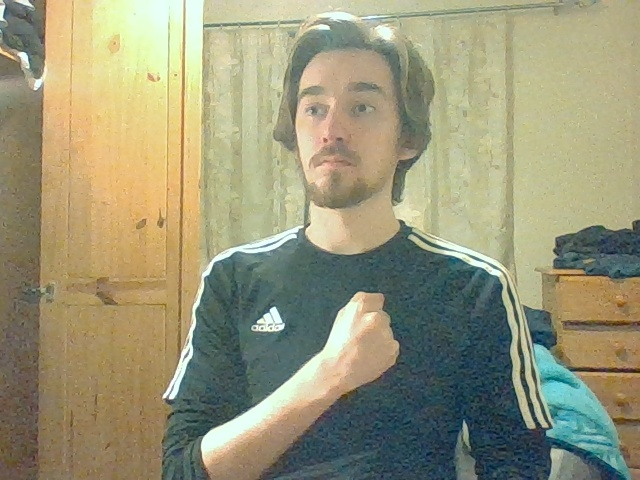my: (331, 292, 399, 384)
